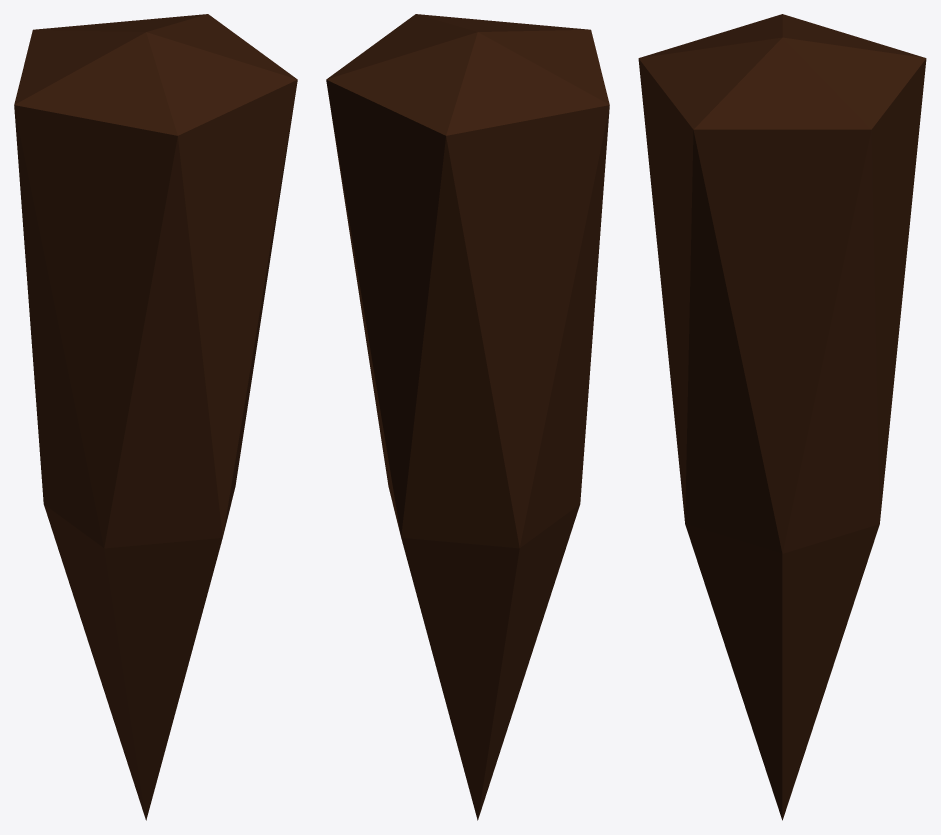
File: great-club.fbx
3 views of the same model, side by side, from view 1: azimuth 30°, elevation 25°; view 2: azimuth 150°, elevation 25°; view 3: azimuth 270°, elevation 25° (orthographic).
Visible parts, largest first — view 1: Icosphere; view 2: Icosphere; view 3: Icosphere.
Boxes of the visible parts, x1,y1,x2,y2 form: Icosphere: (14,14,297,820); Icosphere: (326,14,609,820); Icosphere: (638,14,926,820).
Bounding box in the file's own units: 162 × 511 × 170.
